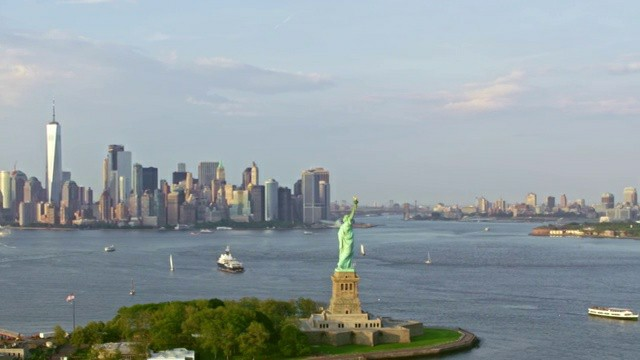SL: (326, 195, 362, 315)
